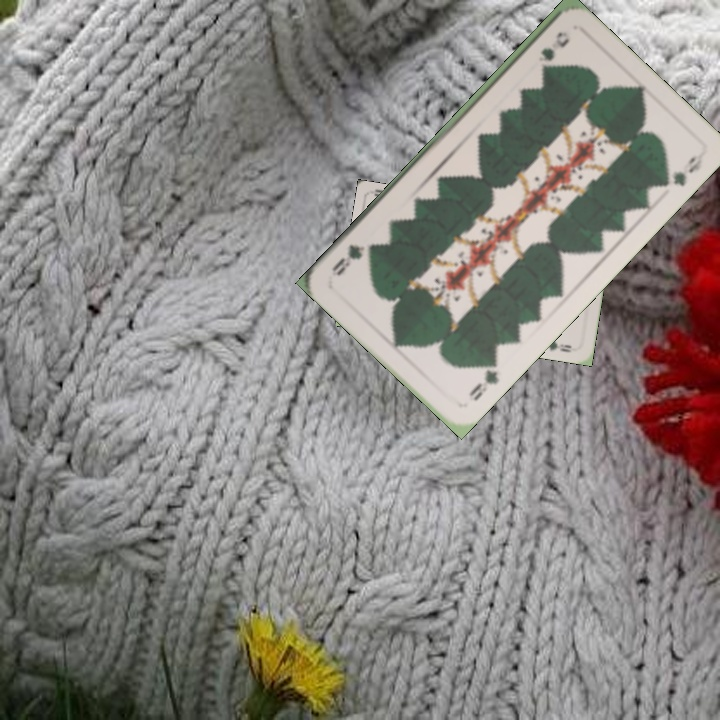G9: (465, 355, 502, 404), (534, 28, 571, 73)
